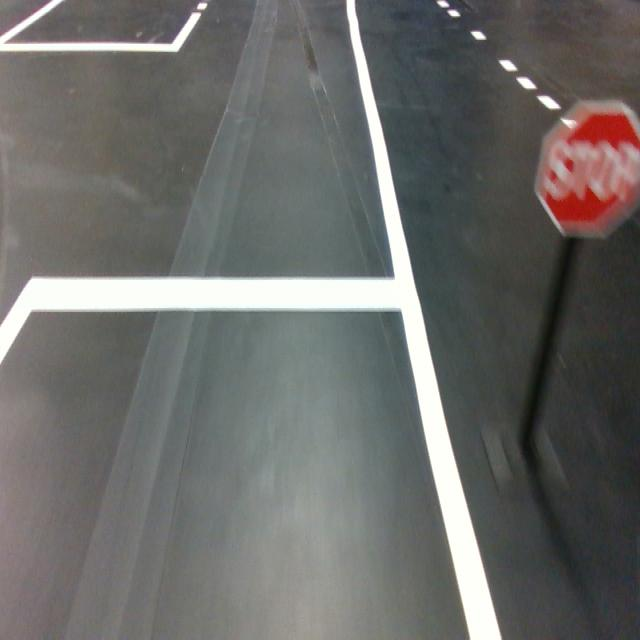stop-sign: (533, 99, 640, 238)
